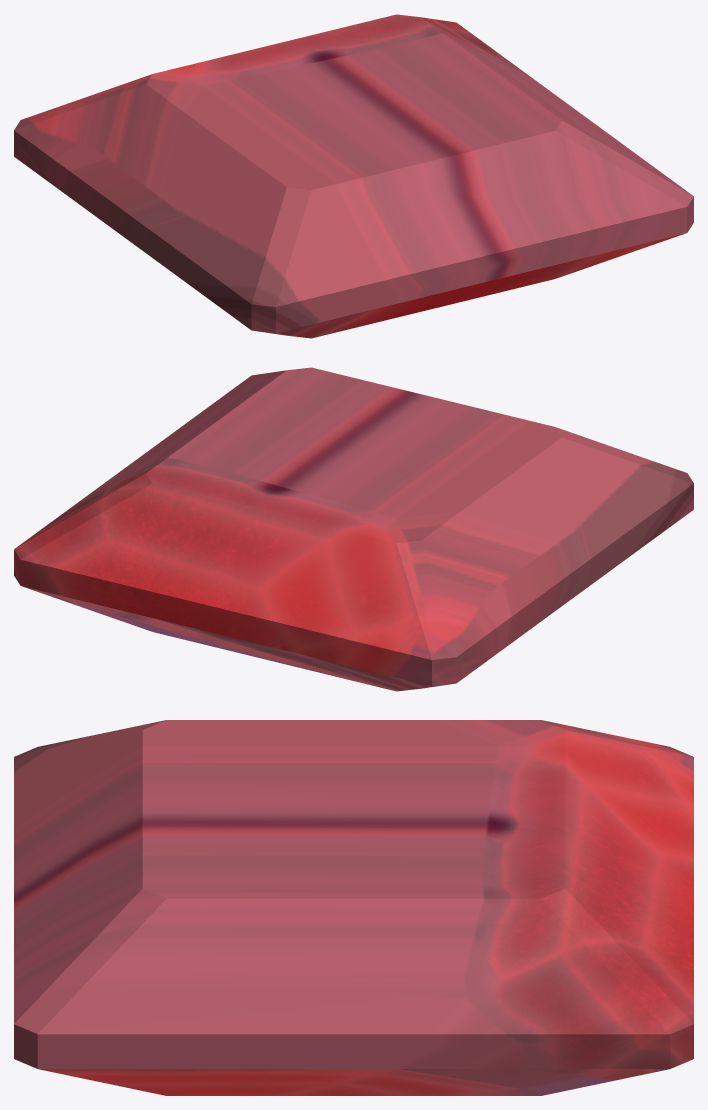
The picture shows the model from 3 angles, top to bottom: view 1: azimuth 30°, elevation 25°; view 2: azimuth 150°, elevation 25°; view 3: azimuth 270°, elevation 25°; orthographic projection. The views are drawn at different scales.
Parts seen in each view (by area): view 1: Gemstone_05.004; view 2: Gemstone_05.004; view 3: Gemstone_05.004.
Boxes of the visible parts, x1,y1,x2,y2 form: Gemstone_05.004: [14, 14, 693, 338]; Gemstone_05.004: [14, 367, 693, 691]; Gemstone_05.004: [14, 720, 693, 1095].
Bounding box in the file's own units: 0.8886 × 0.2846 × 0.8886.
Materials: 1 (1 with a texture image).
